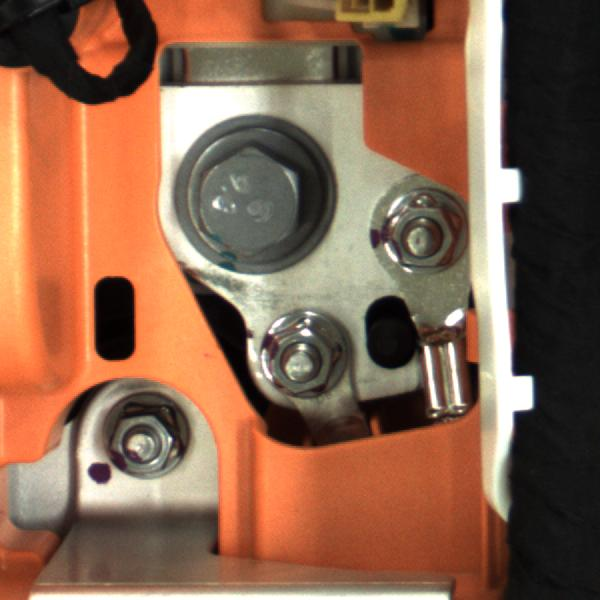nut_b: (194, 137, 325, 269)
screw_s: (374, 183, 473, 276), (98, 402, 184, 490), (259, 318, 337, 402)
